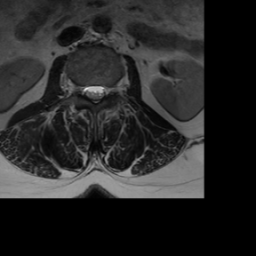CCS_normal: (91, 76, 99, 109)
LFS_normal: (106, 78, 115, 98)
LLS_normal: (99, 78, 106, 103)
RFS_normal: (76, 78, 83, 99)
RLS_normal: (83, 78, 91, 103)
